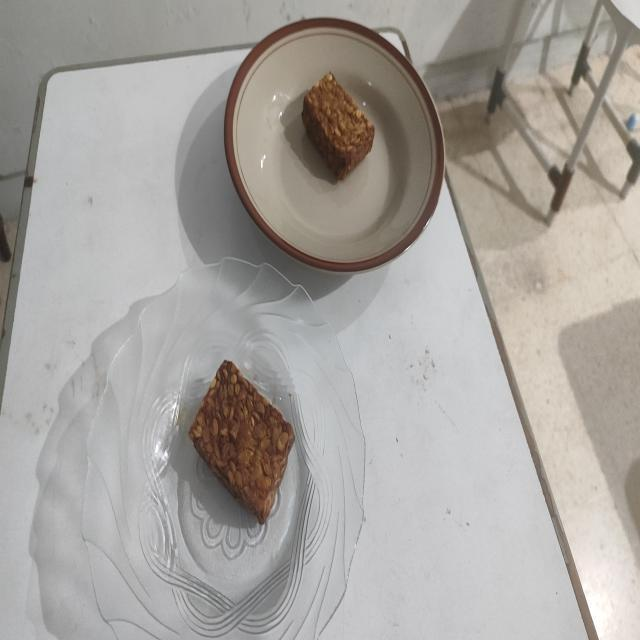tempe_goreng: (189, 360, 294, 524), (302, 72, 374, 180)
